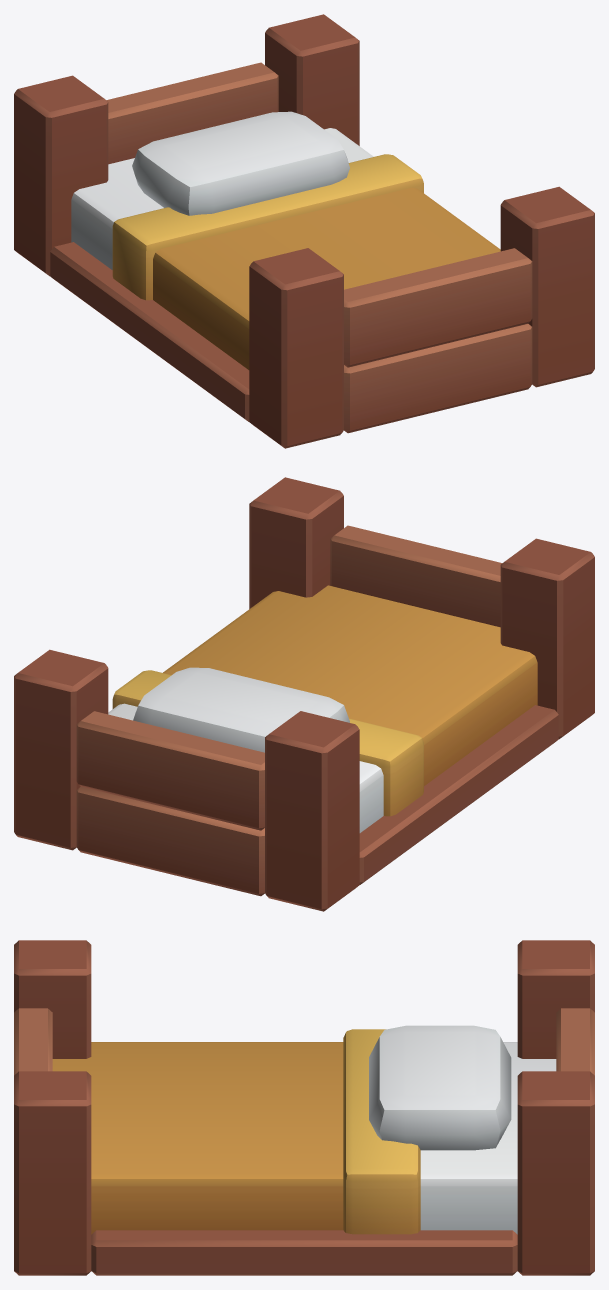
Rendered from bed_a_single.glb.
3 views of the same model, one above another, from view 1: azimuth 30°, elevation 25°; view 2: azimuth 150°, elevation 25°; view 3: azimuth 270°, elevation 25° (orthographic). The views are drawn at different scales.
Parts seen in each view (by area): view 1: bed_A_single; view 2: bed_A_single; view 3: bed_A_single.
Boxes of the visible parts, x1,y1,x2,y2 form: bed_A_single: (14,14,594,448); bed_A_single: (14,477,594,911); bed_A_single: (14,940,594,1275).
Bounding box in the file's own units: 2 × 0.9999 × 3.
Materials: 1 (1 with a texture image).
